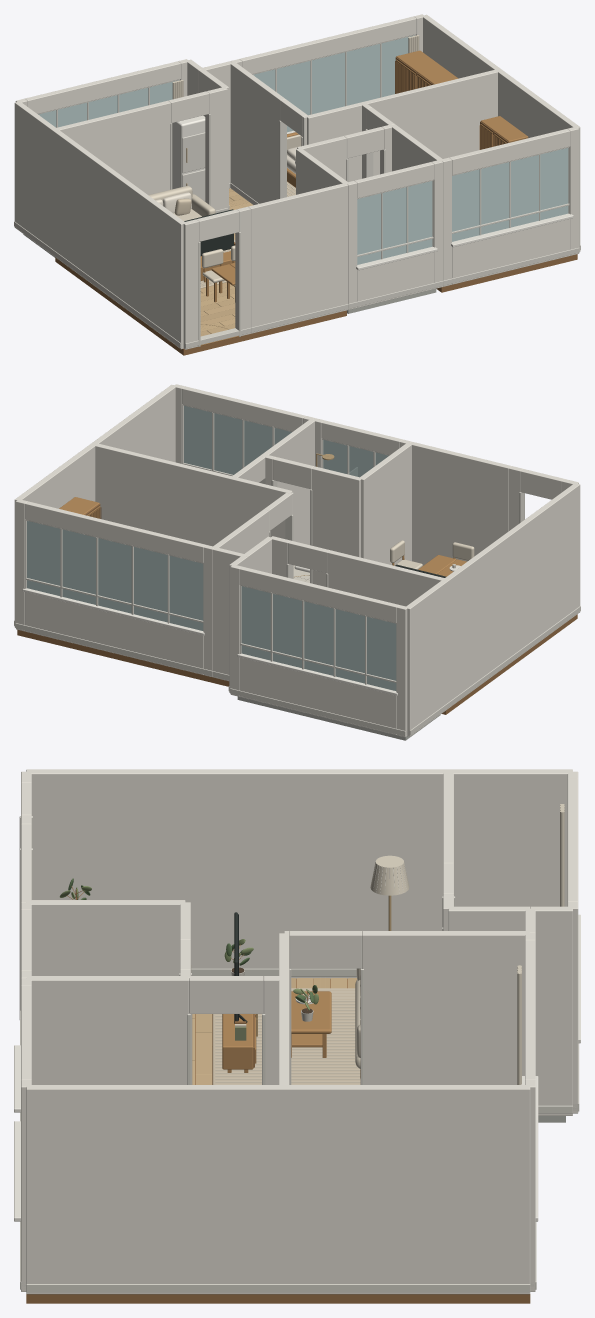
File: new-home-b.glb
3 views of the same model, one above another, from view 1: azimuth 30°, elevation 25°; view 2: azimuth 150°, elevation 25°; view 3: azimuth 270°, elevation 25° (orthographic). The views are drawn at different scales.
Visible parts, largest first — view 1: Plaster wall (×28), Pale glazing (×4), Skirting board (×5), Floor underlay (×2), Door jamb (×3), Carcass (×2), Refrigerator door (×2), Stone window sill (×2), Refrigerator, Television frame, Oak door panel; view 2: Plaster wall (×29), Pale glazing (×4), Skirting board (×3), Floor underlay (×2), Stone window sill (×2), Window rail; view 3: Plaster wall (×20), Bound wool rug, Skirting board (×2), Floor underlay (×2), Carcass, Coffee tabletop, Pleated shade, Individual oak plank, Stone window sill.
Part boxes in pixels (x1=…): Plaster wall (×28): x1=14, y1=14, x2=580, y2=349; Pale glazing (×4): x1=38, y1=35, x2=568, y2=264; Skirting board (×5): x1=14, y1=221, x2=579, y2=348; Floor underlay (×2): x1=135, y1=254, x2=577, y2=355; Door jamb (×3): x1=205, y1=114, x2=286, y2=336; Carcass (×2): x1=396, y1=50, x2=528, y2=142; Refrigerator door (×2): x1=182, y1=132, x2=205, y2=201; Stone window sill (×2): x1=356, y1=213, x2=573, y2=270; Refrigerator: x1=172, y1=115, x2=205, y2=189; Television frame: x1=184, y1=209, x2=233, y2=255; Oak door panel: x1=395, y1=59, x2=415, y2=93; Plaster wall (×29): x1=14, y1=384, x2=580, y2=737; Pale glazing (×4): x1=27, y1=406, x2=396, y2=690; Skirting board (×3): x1=15, y1=606, x2=580, y2=735; Floor underlay (×2): x1=17, y1=629, x2=440, y2=740; Stone window sill (×2): x1=22, y1=588, x2=397, y2=695; Window rail: x1=26, y1=578, x2=203, y2=622; Plaster wall (×20): x1=21, y1=769, x2=578, y2=1294; Bound wool rug: x1=212, y1=988, x2=360, y2=1084; Skirting board (×2): x1=26, y1=968, x2=530, y2=1292; Floor underlay (×2): x1=26, y1=1294, x2=530, y2=1303; Carcass: x1=222, y1=1014, x2=253, y2=1069; Coffee tabletop: x1=291, y1=991, x2=331, y2=1033; Pleated shade: x1=370, y1=855, x2=409, y2=895; Individual oak plank: x1=195, y1=1032, x2=211, y2=1074; Stone window sill: x1=14, y1=1121, x2=20, y2=1221.
Size of the model in its own units: 8.54 by 2.69 by 6.38.
